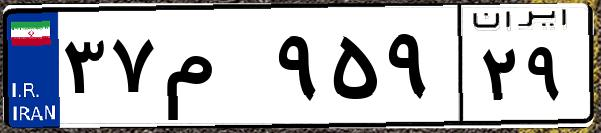2: (475, 38, 525, 113)
3: (57, 26, 110, 100)
5: (330, 28, 385, 110)
7: (110, 28, 158, 98)
9: (270, 28, 330, 110), (385, 28, 445, 110), (525, 38, 570, 115)
م: (158, 20, 270, 120)
